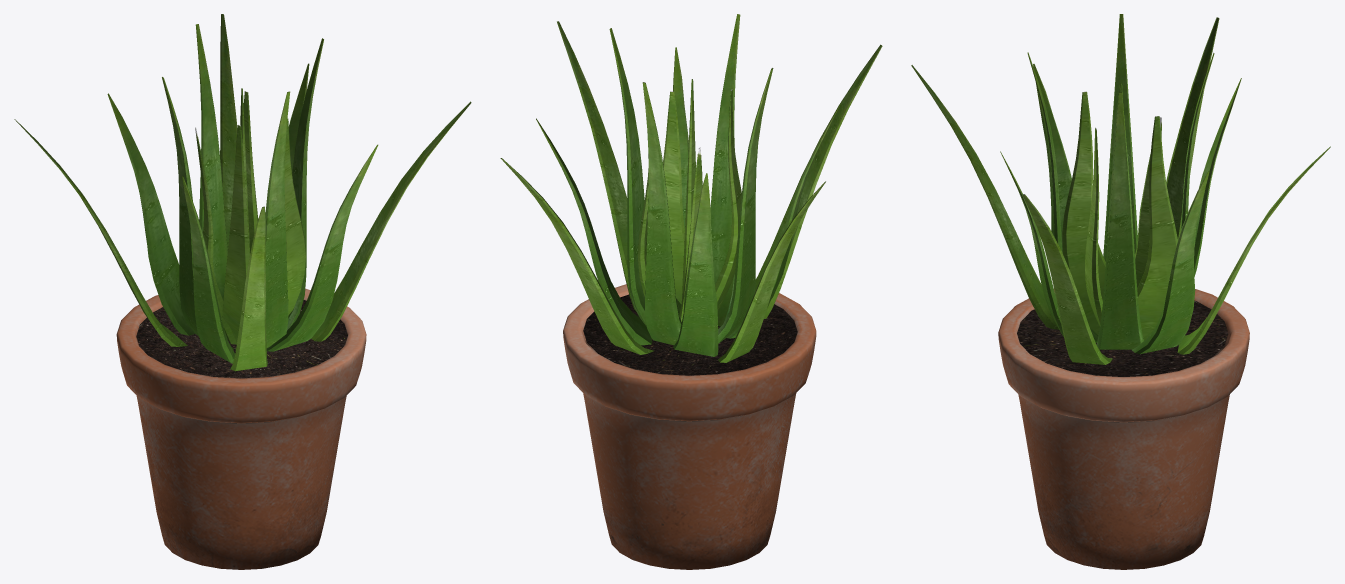
Rendered from AloePlant.fbx.
The picture shows the model from 3 angles, left to right: view 1: azimuth 30°, elevation 25°; view 2: azimuth 150°, elevation 25°; view 3: azimuth 270°, elevation 25°; orthographic projection.
Parts seen in each view (by area): view 1: Aloe; view 2: Aloe; view 3: Aloe.
Boxes of the visible parts, box(x1,y1,x2,y2) form: Aloe: box(14, 14, 471, 569); Aloe: box(500, 14, 882, 569); Aloe: box(911, 14, 1330, 569).
Bounding box in the file's own units: 0.5349 × 0.5349 × 0.6853.
Materials: 3 (3 with a texture image).
